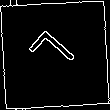L_SE: (26, 26, 84, 84)
